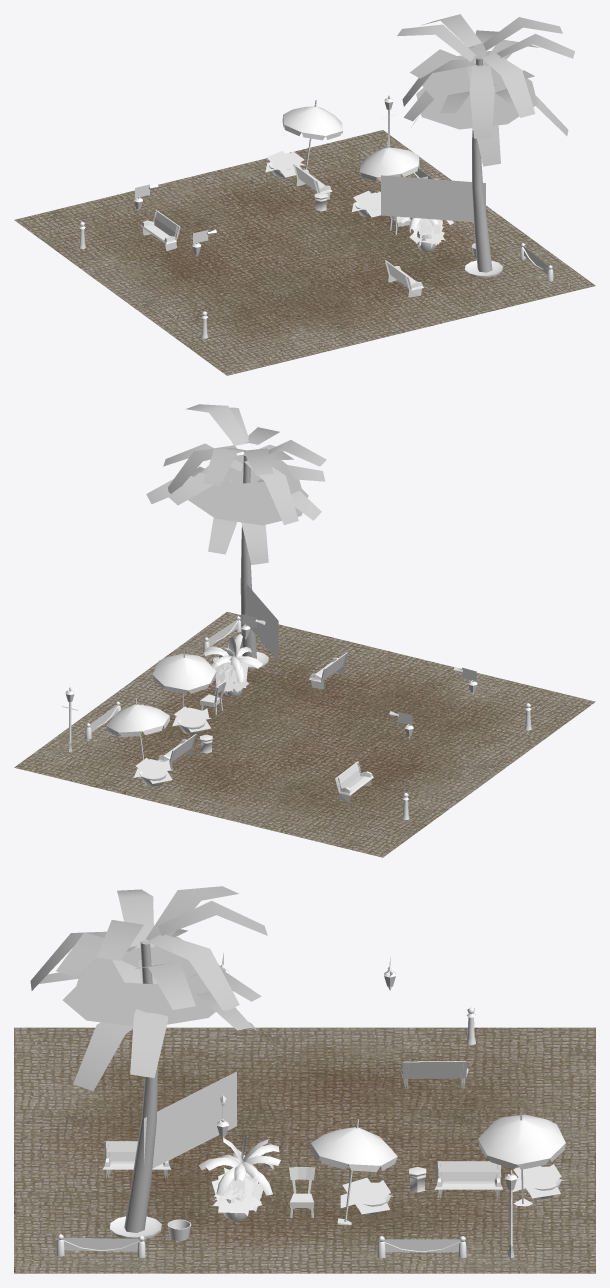
Rendered from propsonly_1.gltf.
The picture shows the model from 3 angles, top to bottom: view 1: azimuth 30°, elevation 25°; view 2: azimuth 150°, elevation 25°; view 3: azimuth 270°, elevation 25°; orthographic projection. The views are drawn at different scales.
Visible parts, largest first — view 1: ground.006, prop_tree1, prop_lights1, prop_sunshade1, prop_sunshade1.001, prop_bench1, prop_pot_flower1.001, prop_treepot_bush1, prop_bench1.003, prop_pot_flower1, prop_bench1.002; view 2: ground.006, prop_tree1, prop_sunshade1.001, prop_sunshade1, prop_lights1, prop_treepot_tree1, prop_bench1, prop_treepot_bush1, prop_pot_flower1, prop_pot_flower1.001, prop_bench1.003; view 3: ground.006, prop_tree1, prop_lights1, prop_sunshade1, prop_sunshade1.001, prop_treepot_tree1, prop_bench1.002, prop_treepot_bush1, prop_chain_fence1.001, prop_chain_fence1, prop_pot_flower1, prop_bench1 (+4 smaller).
Part boxes in pixels (box(x1,y1,x2,y2)): ground.006: box(14, 130, 595, 375); prop_tree1: box(397, 14, 574, 272); prop_lights1: box(381, 175, 485, 222); prop_sunshade1: box(282, 100, 342, 169); prop_sunshade1.001: box(359, 141, 419, 181); prop_bench1: box(140, 210, 180, 251); prop_pot_flower1.001: box(265, 151, 305, 177); prop_treepot_bush1: box(409, 218, 445, 247); prop_bench1.003: box(384, 260, 423, 297); prop_pot_flower1: box(352, 190, 380, 217); prop_bench1.002: box(293, 164, 332, 199); ground.006: box(14, 612, 595, 857); prop_tree1: box(146, 404, 326, 658); prop_sunshade1.001: box(152, 651, 216, 707); prop_sunshade1: box(106, 698, 169, 759); prop_lights1: box(245, 584, 278, 660); prop_treepot_tree1: box(203, 634, 262, 682); prop_bench1: box(335, 761, 373, 802); prop_treepot_bush1: box(215, 662, 248, 692); prop_pot_flower1: box(172, 706, 211, 732); prop_pot_flower1.001: box(133, 757, 172, 783); prop_bench1.003: box(309, 652, 348, 689); ground.006: box(14, 1027, 595, 1273); prop_tree1: box(30, 886, 267, 1232); prop_lights1: box(144, 1071, 236, 1168); prop_sunshade1: box(478, 1111, 565, 1206); prop_sunshade1.001: box(310, 1119, 397, 1225); prop_treepot_tree1: box(198, 1133, 280, 1195); prop_bench1.002: box(434, 1161, 503, 1198); prop_treepot_bush1: box(212, 1168, 263, 1216); prop_chain_fence1.001: box(377, 1236, 466, 1258); prop_chain_fence1: box(56, 1234, 145, 1257); prop_pot_flower1: box(340, 1177, 393, 1214); prop_bench1: box(400, 1061, 468, 1089).
Size of what is drawn, in the model's own units: 3.42 by 2.16 by 3.3.
